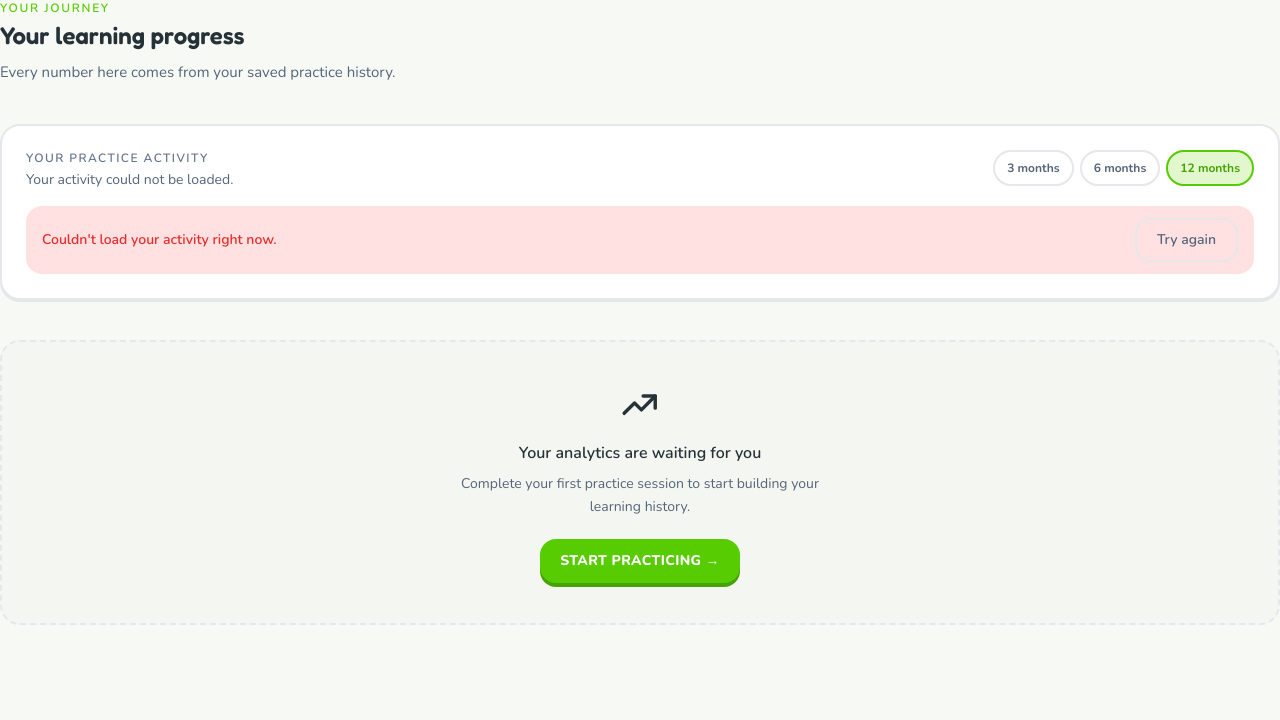
Test case: ProgressPage: heatmap first › a failed heatmap request shows an error and a retry without breaking the rest of the page
Expected: the message shows "Couldn't load your activity right now.", [42,230,277,249]
Expected: the heading "Your analytics are waiting for you" is shown, [519,441,761,465]
Click the button "Try again" at (1187, 240), box [1135,218,1238,262]
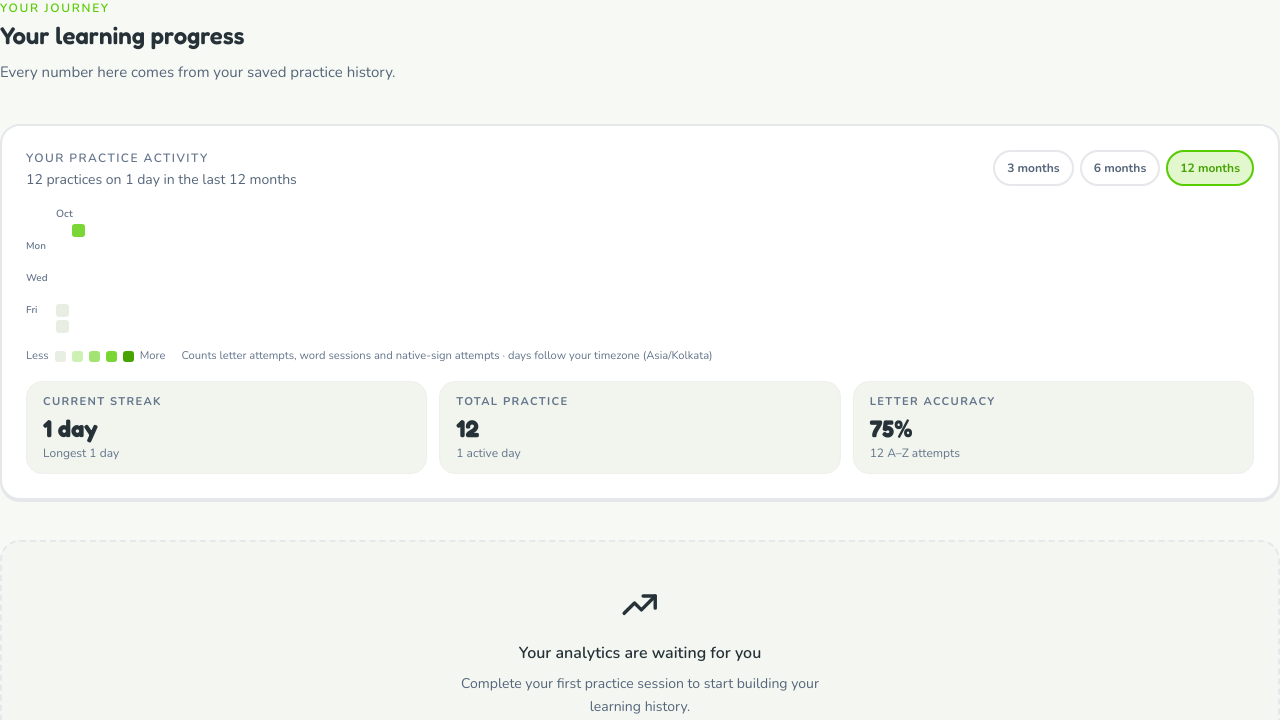
Expected: the table is shown, [26,224,88,333]
